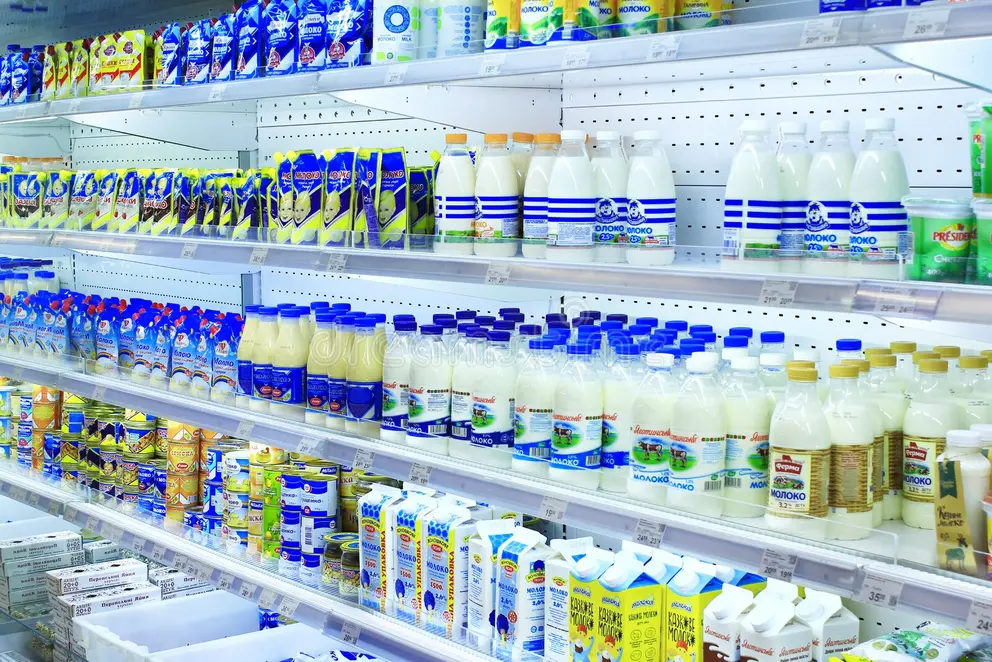milk: (723, 120, 783, 270), (549, 342, 602, 488), (547, 131, 597, 261), (627, 132, 675, 263), (435, 134, 475, 254)
